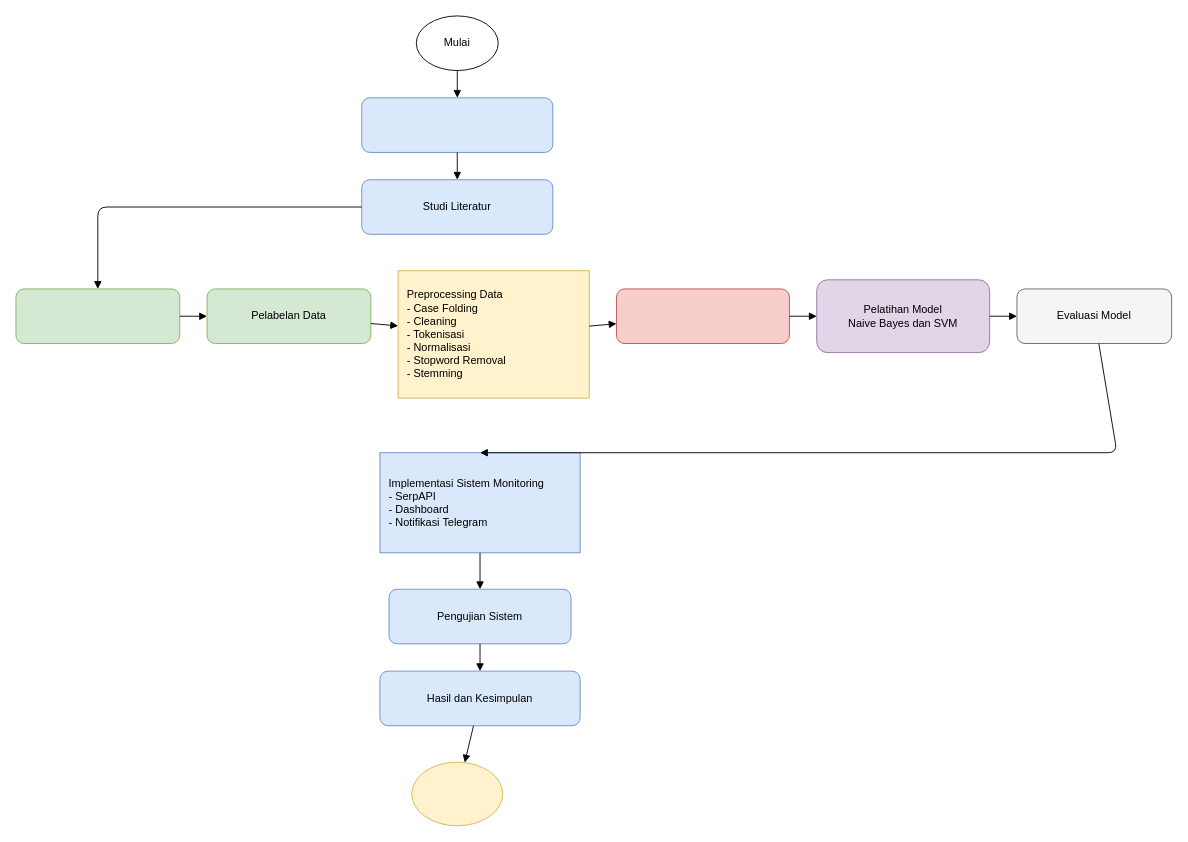
Image size: 1188x842. Some labels were removed from this diagram. The shapes that lost their labels are listed below. From the top down, each one's box as (x1, y1, x2, y2) in pixels, then its label:
(361, 97, 553, 152): Identifikasi Masalah
(15, 288, 180, 344): Pengumpulan Data
(616, 288, 789, 344): Ekstraksi Fitur TF-IDF
(411, 761, 503, 826): Selesai
